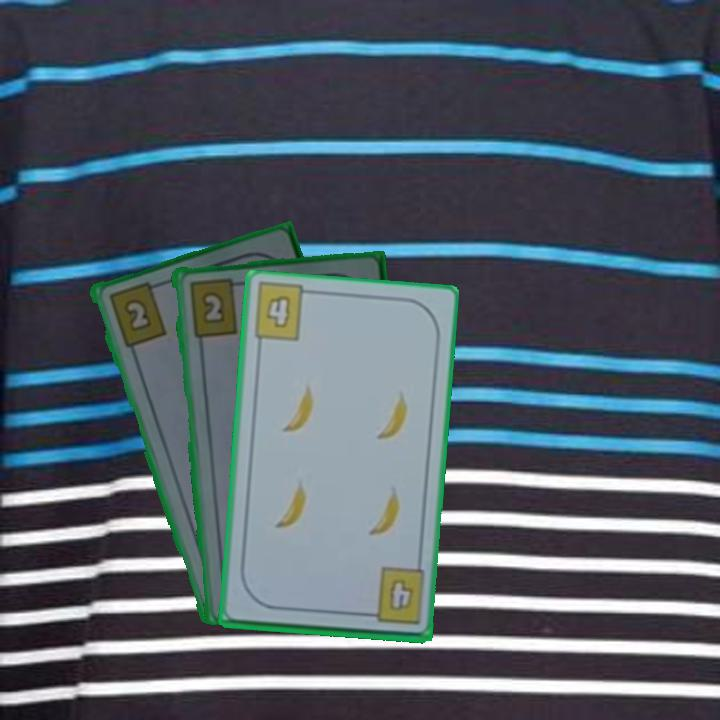2b: (104, 278, 169, 350), (185, 274, 245, 340)
4b: (359, 565, 423, 627), (262, 291, 293, 331)
